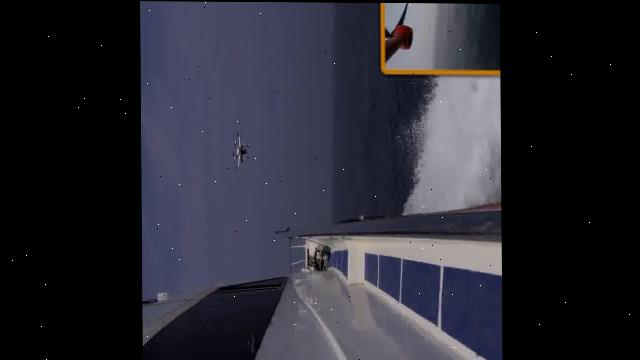drone: (221, 131, 261, 188)
